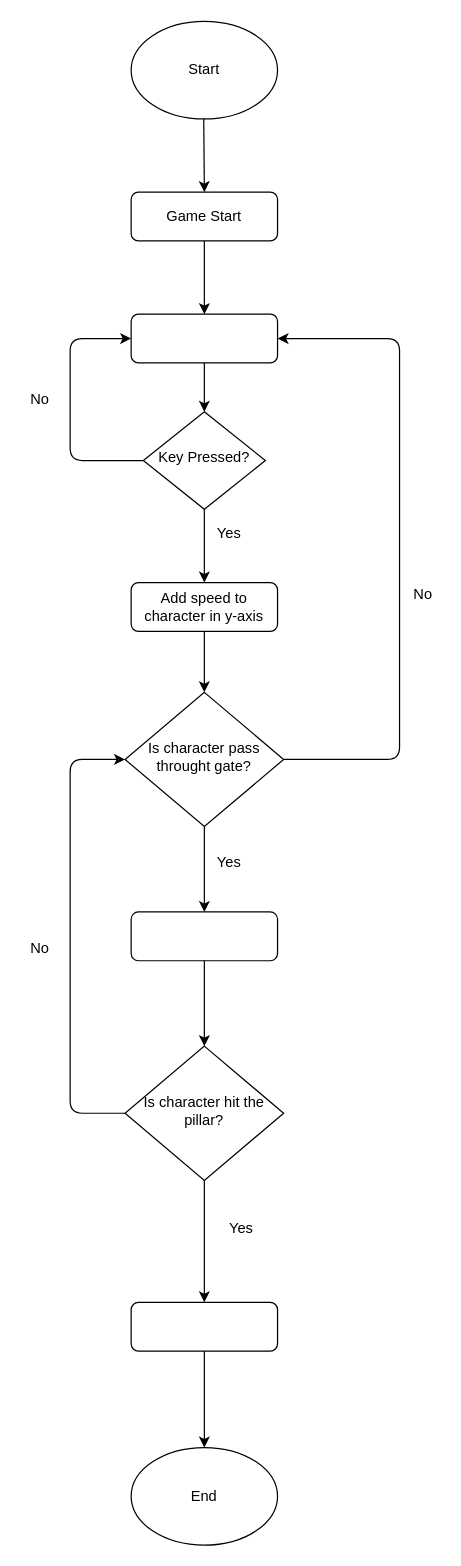
Some shapes in this 461 by 1566 pixel diagram are drawn without their labels. Here are the shapes that lost their labels. From the top down, the centre of each, then its label:
At point (204, 338): "Character Moving".
At point (204, 936): "Count Score".
At point (204, 1326): "Show Total Scores".
